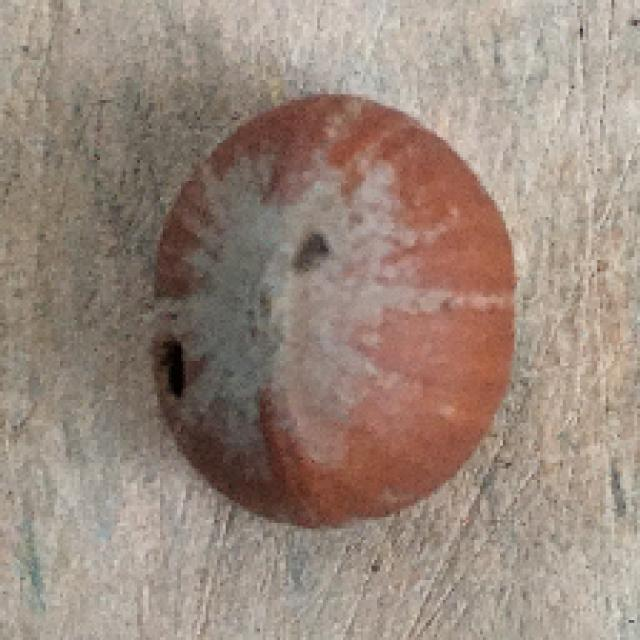damagedHazelnut: (139, 87, 525, 528)
